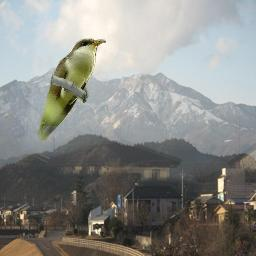Cuckoo: (36, 38, 106, 141)
